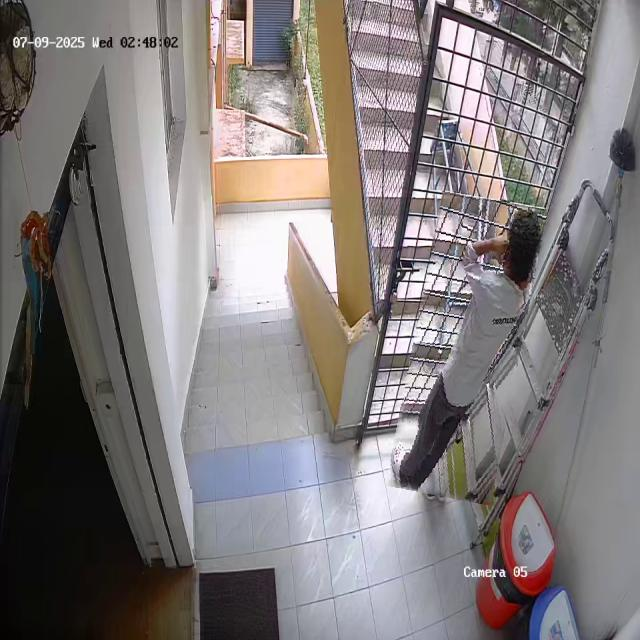person: (399, 193, 534, 502)
